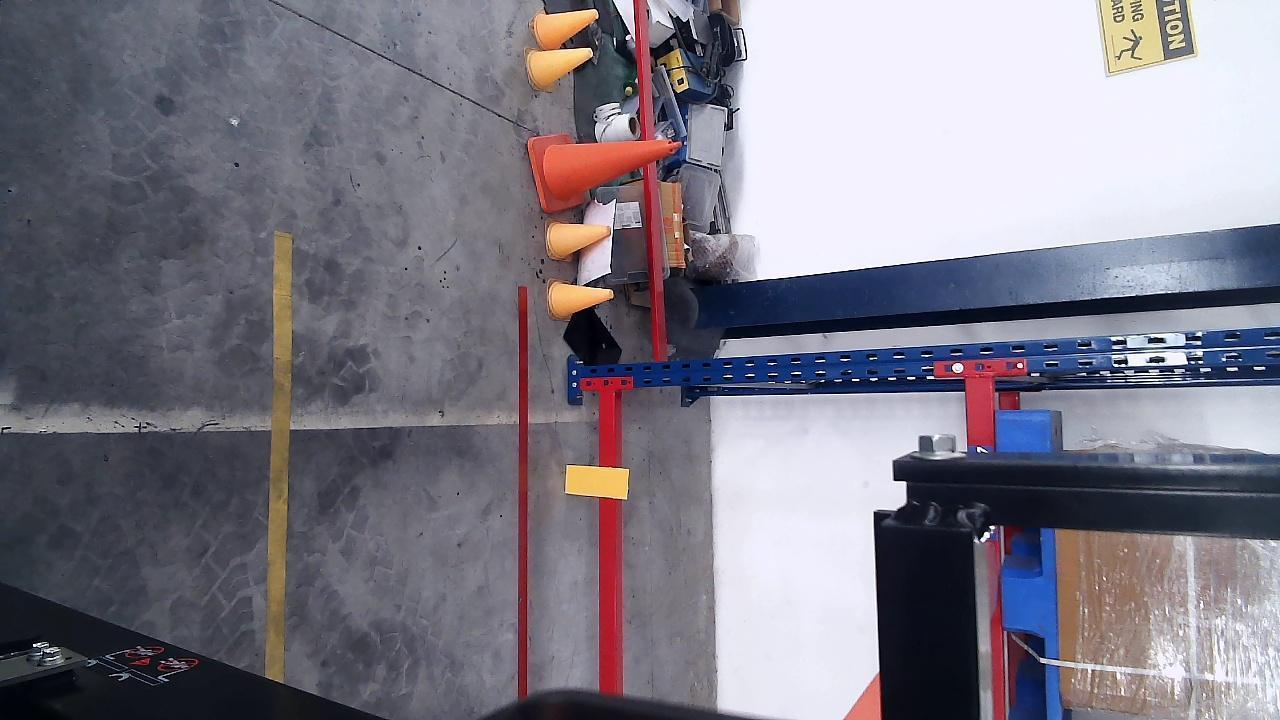red_line: (601, 388, 625, 691), (514, 286, 527, 697)
yellow_line: (266, 233, 291, 683)
